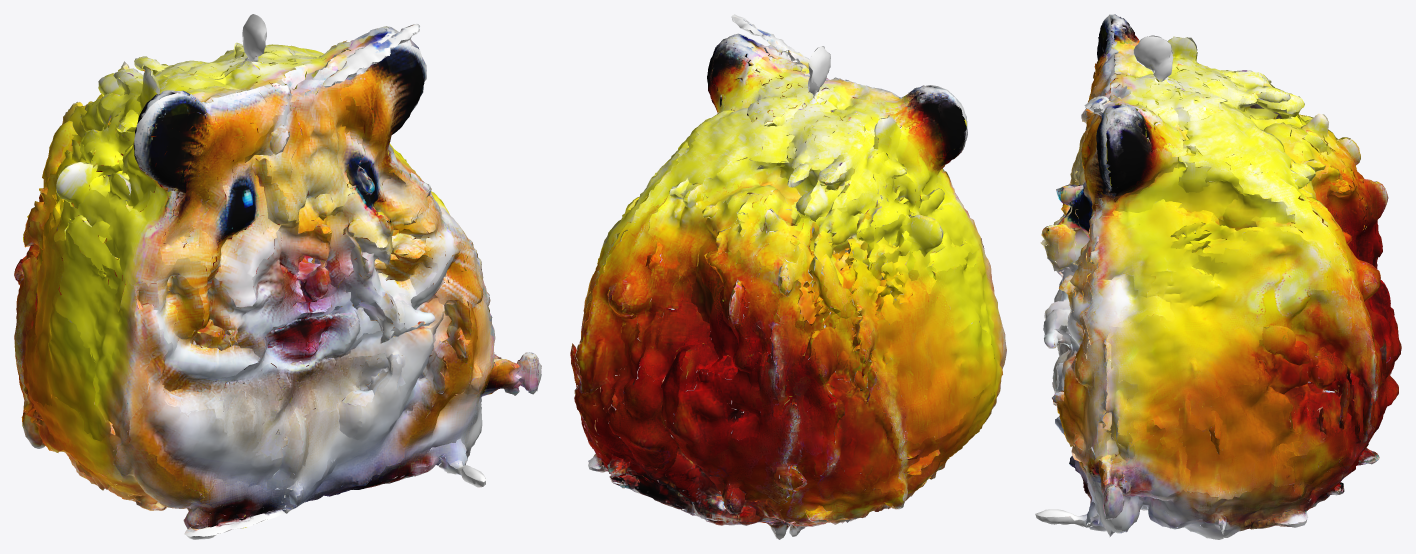
Rendered from refined.obj.
The picture shows the model from 3 angles, left to right: view 1: azimuth 30°, elevation 25°; view 2: azimuth 150°, elevation 25°; view 3: azimuth 270°, elevation 25°; orthographic projection. The views are drawn at different scales.
Size of the model in its own units: 1.36 by 1.43 by 1.07.
1 material, 1 textured.
